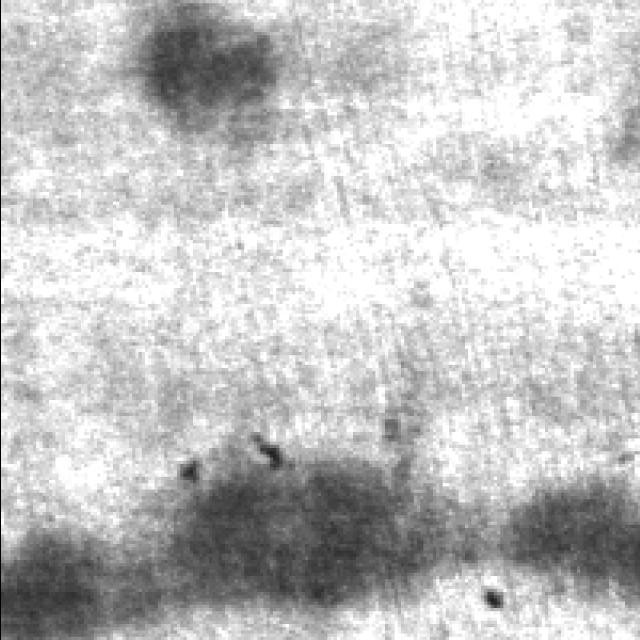patches: (149, 427, 461, 640), (125, 1, 292, 143), (497, 468, 640, 620), (4, 528, 134, 640)
